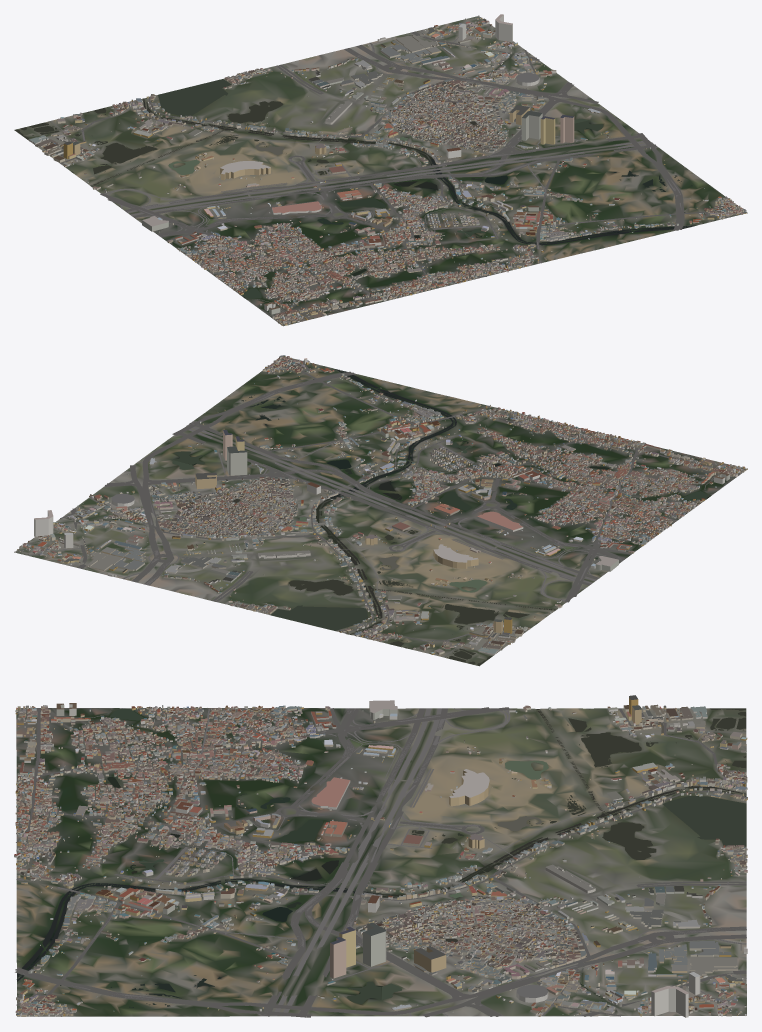
3 renders of one model, top to bottom at view 1: azimuth 30°, elevation 25°; view 2: azimuth 150°, elevation 25°; view 3: azimuth 270°, elevation 25°, orthographic. The views are drawn at different scales.
Visible parts, largest first — view 1: ground, buildings, roads, water; view 2: ground, buildings, roads, water; view 3: ground, buildings, roads, water.
Boxes of the visible parts, x1,y1,x2,y2 form: ground: (14, 16, 747, 326); buildings: (29, 14, 746, 325); roads: (44, 30, 730, 320); water: (15, 54, 699, 298); ground: (14, 357, 747, 666); buildings: (14, 355, 747, 654); roads: (60, 360, 739, 657); water: (76, 369, 708, 665); ground: (16, 708, 746, 1016); buildings: (14, 695, 747, 1017); roads: (15, 707, 746, 1017); water: (16, 708, 746, 1008).
Bounding box in the file's own units: 2831 × 150 × 2819.
